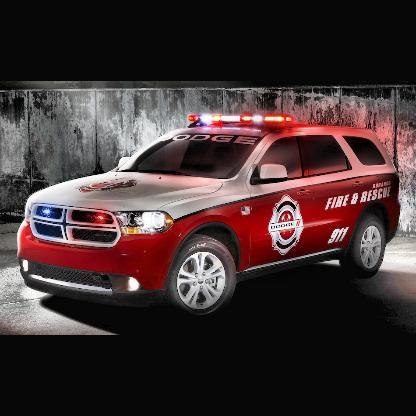Dodge Durango SUV 2012: (16, 113, 403, 324)
